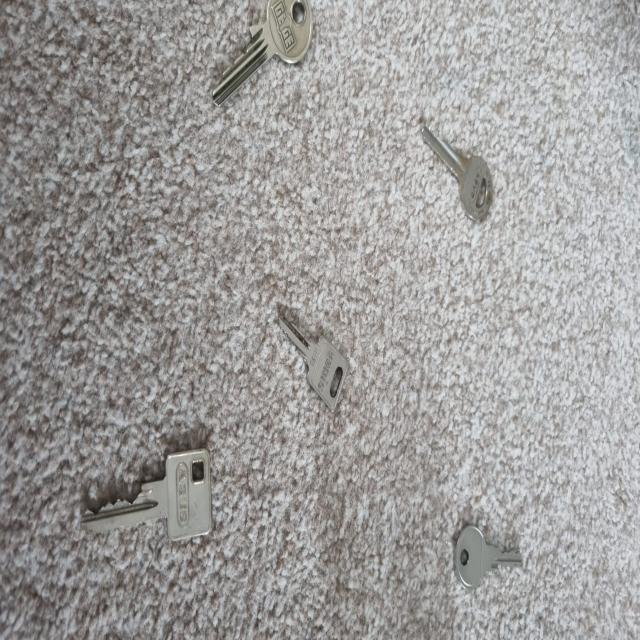Key: (80, 450, 214, 542), (214, 0, 315, 99), (419, 120, 497, 225), (276, 313, 354, 417), (455, 527, 522, 589)
